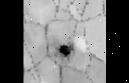good_void: (56, 43, 75, 58)
